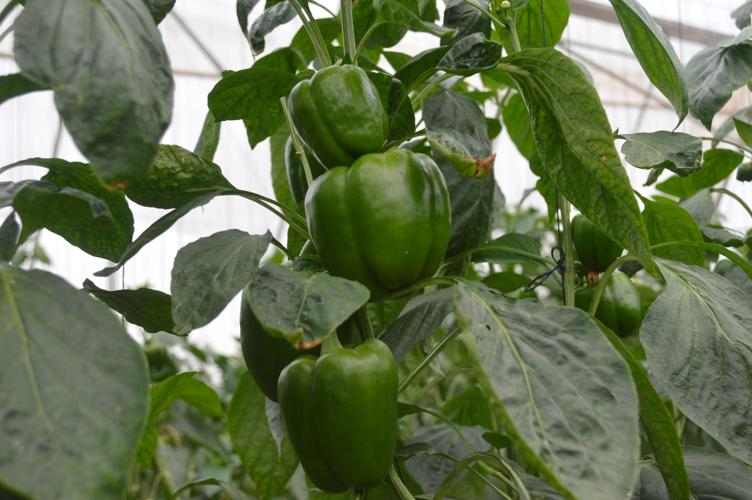BellPepper: (298, 158, 453, 298), (273, 347, 419, 494), (276, 63, 394, 162), (564, 210, 622, 273), (585, 274, 642, 338)
